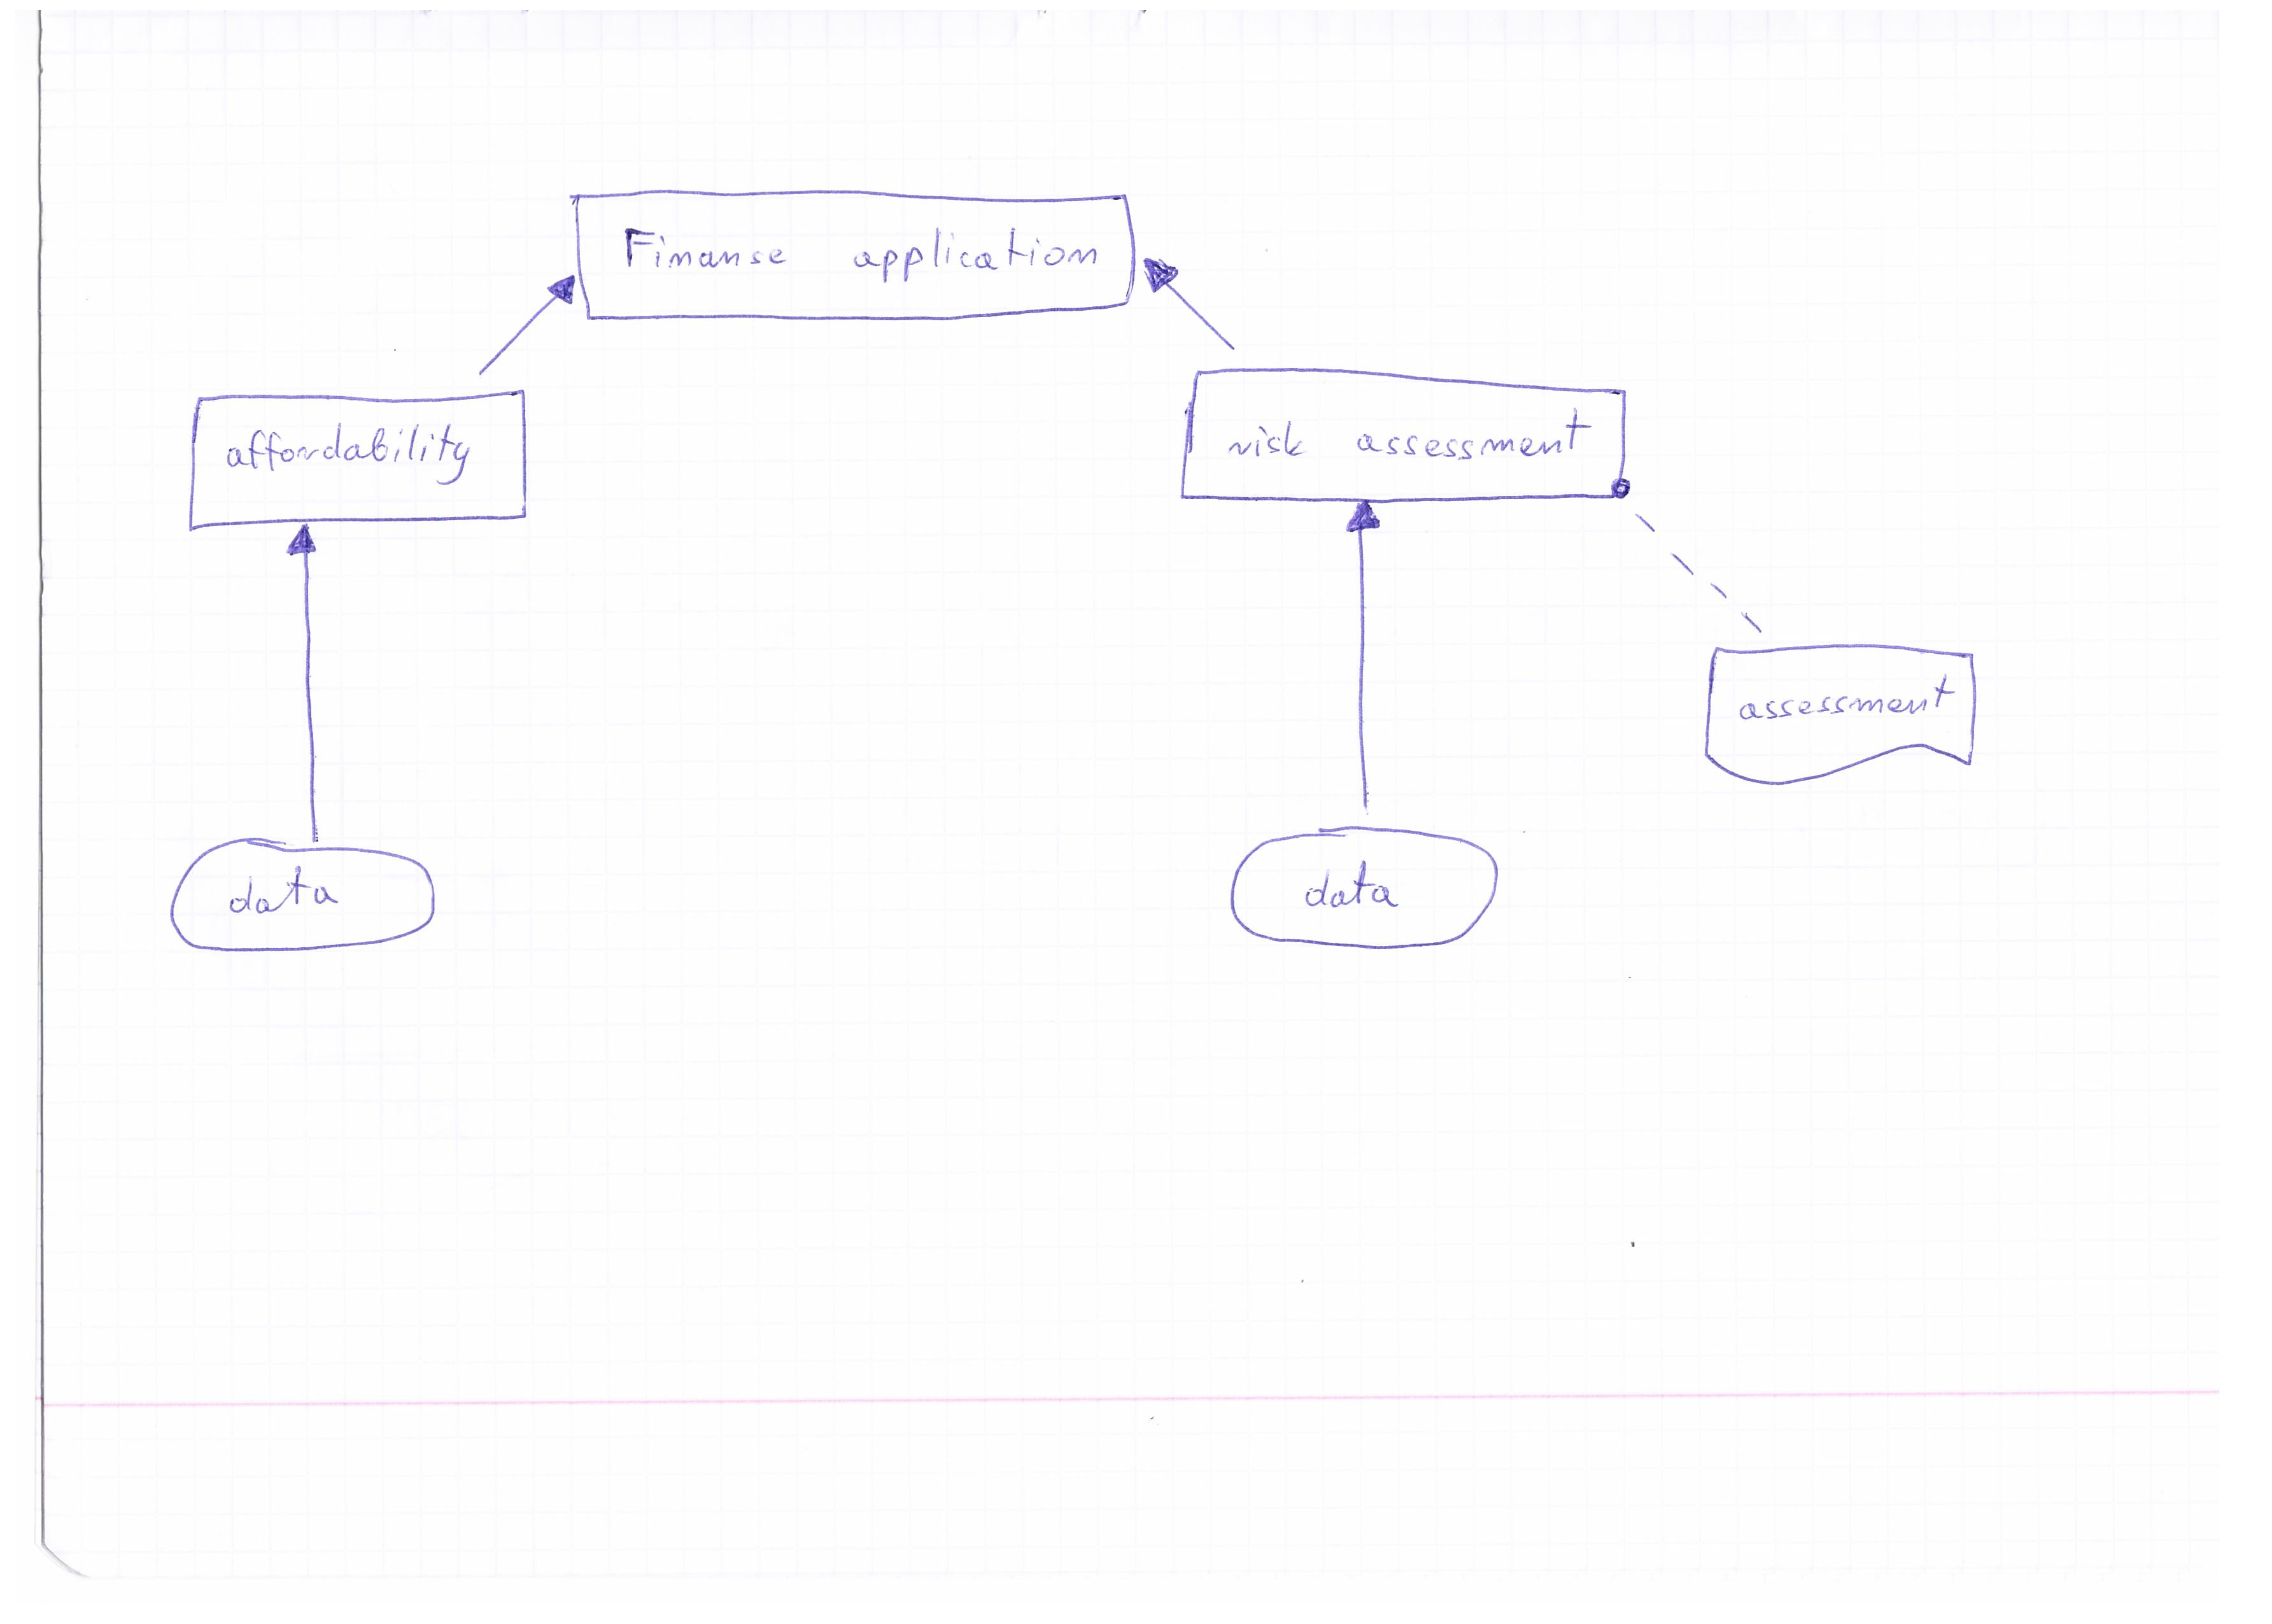arrow_authority_requirement: (1594, 478, 1792, 647)
arrow_information_requirement: (272, 515, 346, 838), (1332, 503, 1407, 816), (466, 272, 585, 385), (1137, 253, 1255, 364)
node_decision: (564, 186, 1146, 327), (1169, 362, 1636, 508), (179, 383, 550, 531)
node_input_data: (1204, 819, 1538, 963), (155, 833, 467, 967)
node_knowledge_source: (1704, 631, 2012, 784)
text: (610, 213, 1114, 297), (1218, 399, 1594, 469), (214, 410, 490, 503), (1731, 666, 1956, 736), (1288, 849, 1425, 926), (209, 858, 353, 930)
